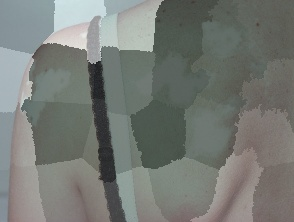vitiligo: (130, 10, 261, 193), (6, 43, 86, 158)
